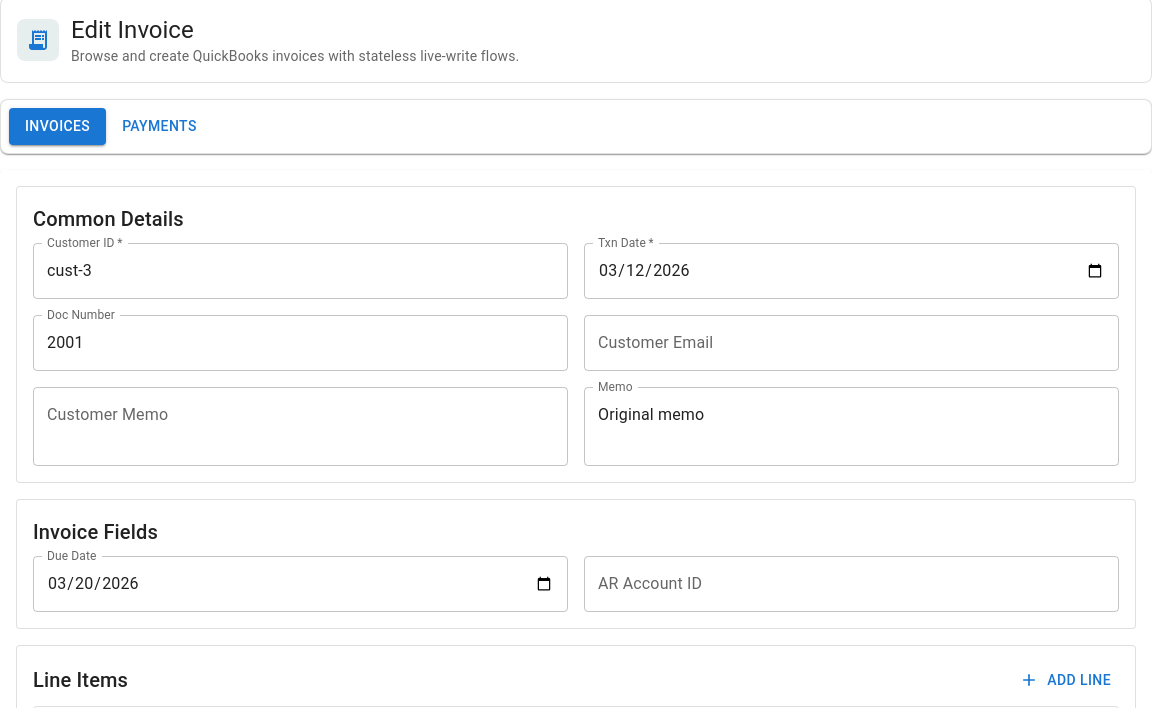
QuickBooks write pages › loads an edit form and patches before refetching detail
The width and height of the screenshot is (1164, 708).
Expected: the field showing "cust-3" is shown, x1=33 y1=242 x2=568 y2=298
Replace the text in the text box labelled "Memo" with "Updated memo" at (852, 426), box x1=598 y1=403 x2=1105 y2=449
(page scrolled)
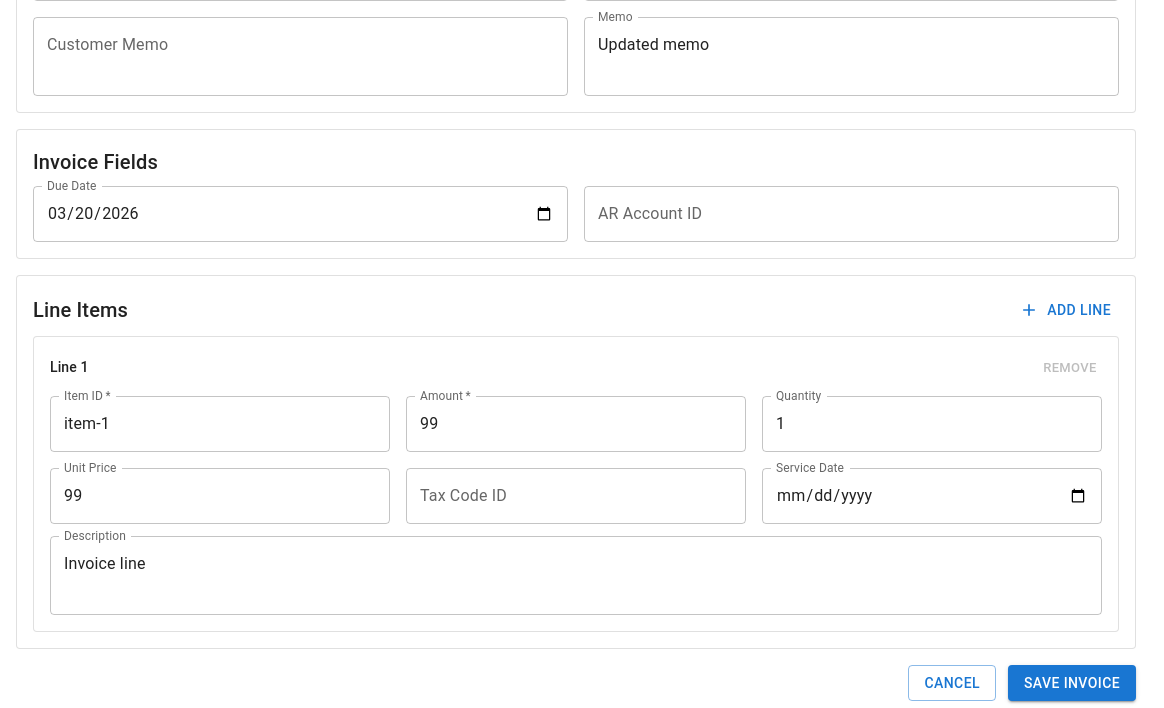
Click the button "Save Invoice" at (1072, 683), box x1=1008 y1=665 x2=1136 y2=701
(page scrolled)
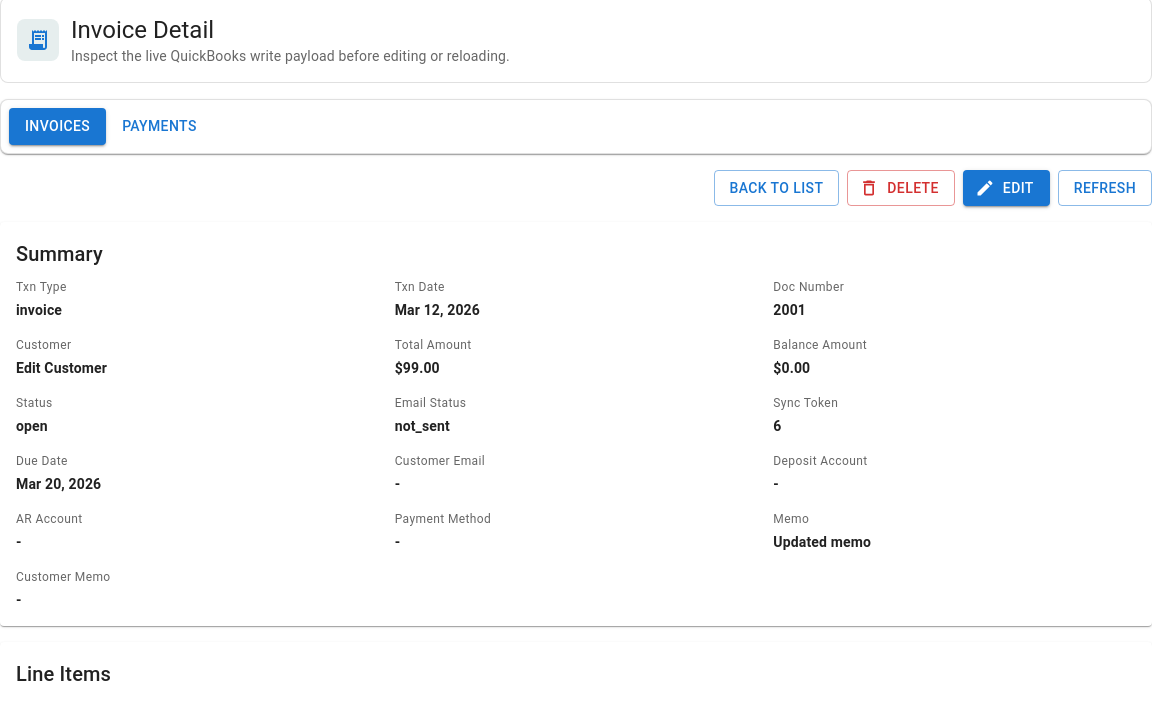
Now the text "Updated memo" is shown, box x1=773 y1=534 x2=871 y2=550
